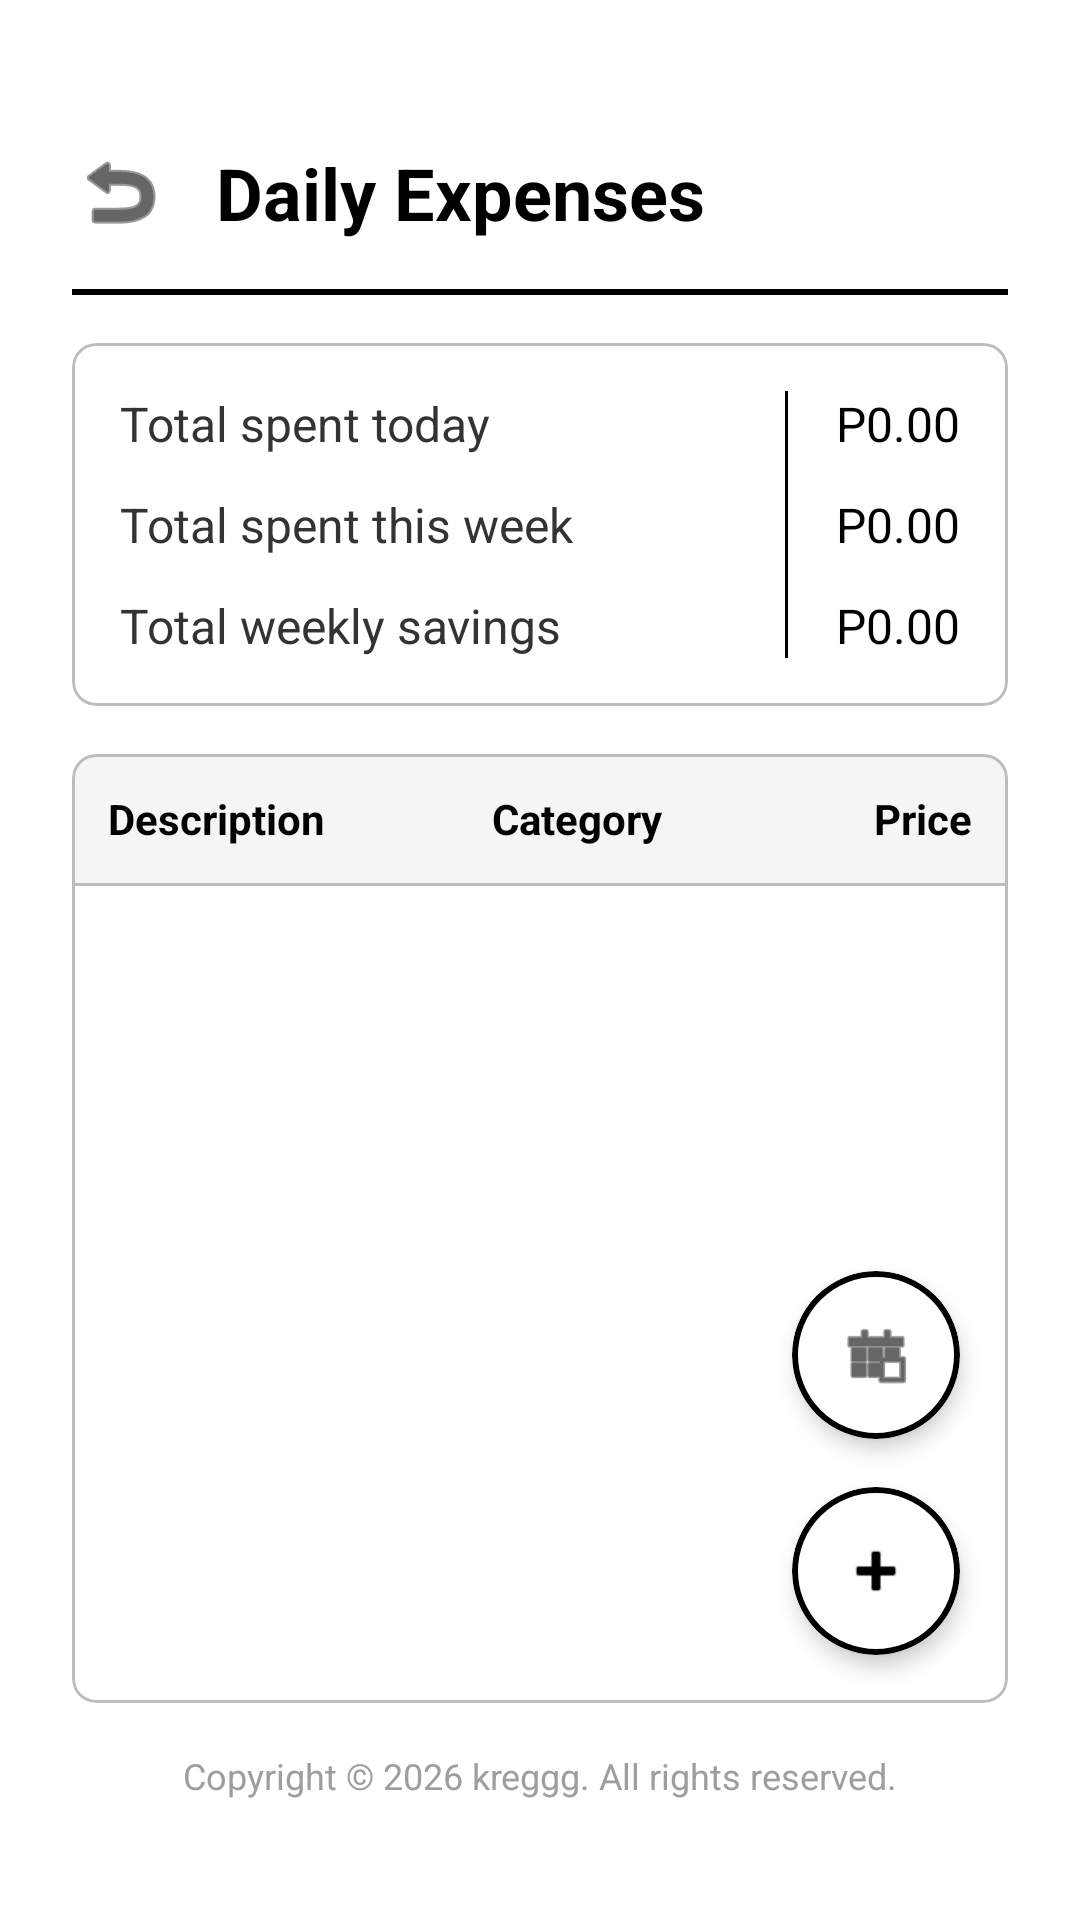

Locate icon controls on the screen. Image size 1080w x 1920h, boxes as (x1, y1, x2, y2).
add: (855, 1551, 897, 1591)
revert: (87, 161, 156, 224)
today: (847, 1329, 906, 1384)
